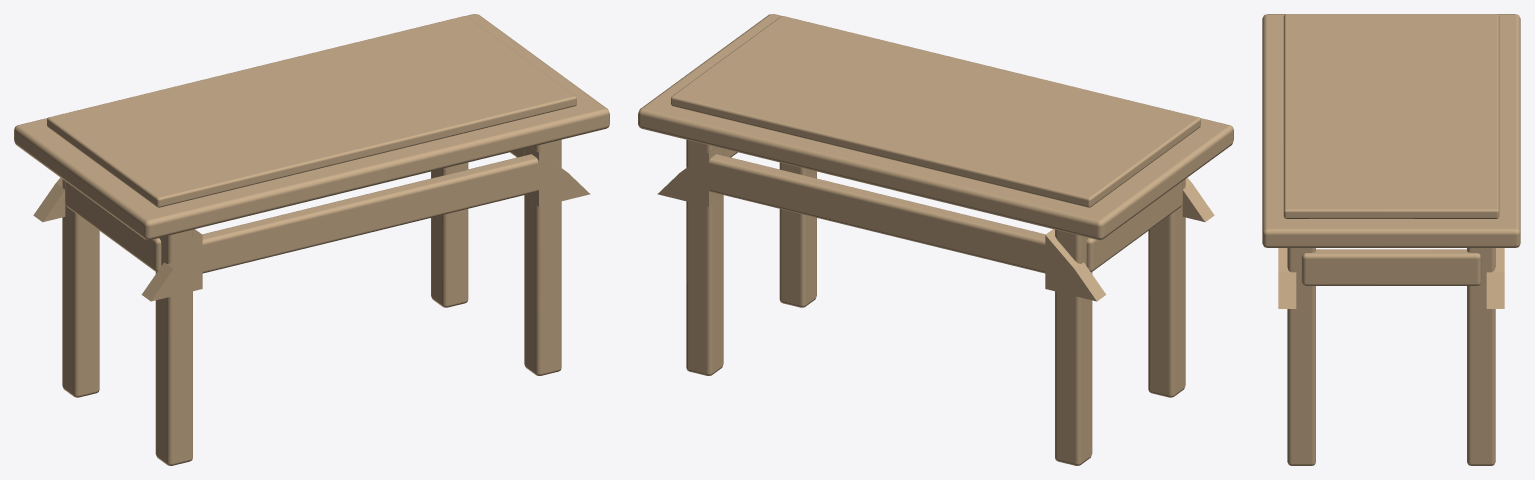
The model's file is writing-desk.glb.
3 renders of one model, left to right at view 1: azimuth 30°, elevation 25°; view 2: azimuth 150°, elevation 25°; view 3: azimuth 270°, elevation 25°, orthographic. The views are drawn at different scales.
Parts seen in each view (by area): view 1: scholars-writing-desk; view 2: scholars-writing-desk; view 3: scholars-writing-desk.
Boxes of the visible parts, box(x1,y1,x2,y2) form: scholars-writing-desk: box(14, 14, 609, 465); scholars-writing-desk: box(638, 14, 1233, 465); scholars-writing-desk: box(1262, 14, 1520, 465).
Size of the model in its own units: 1.44 by 0.8099 by 0.7201.
